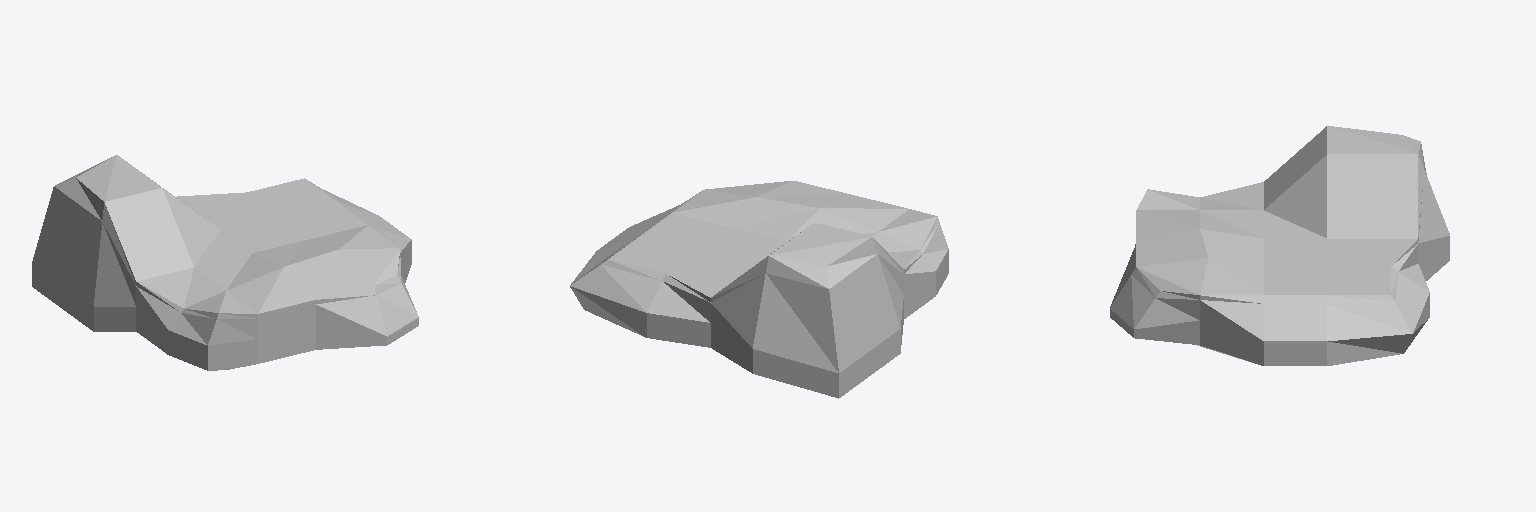
The model's file is wide_rock.obj.
The picture shows the model from 3 angles: view 1: azimuth 30°, elevation 25°; view 2: azimuth 150°, elevation 25°; view 3: azimuth 270°, elevation 25°; orthographic projection.
Visible parts, largest first — view 1: Cube; view 2: Cube; view 3: Cube.
Boxes of the visible parts, <box> form: Cube: <box>32,155,418,370</box>; Cube: <box>570,181,948,398</box>; Cube: <box>1110,126,1449,365</box>.
Size of the model in its own units: 12.33 by 5.43 by 12.34.